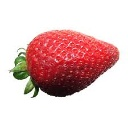strawberry: (13, 29, 119, 98)
